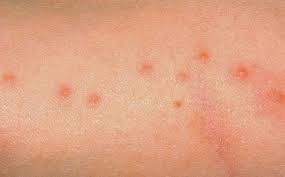Bed Bugs: (263, 78, 284, 111), (229, 60, 255, 84), (79, 90, 102, 109), (50, 82, 71, 99), (0, 71, 16, 86), (137, 63, 153, 76), (175, 72, 189, 86), (197, 50, 209, 63), (172, 100, 186, 111)
